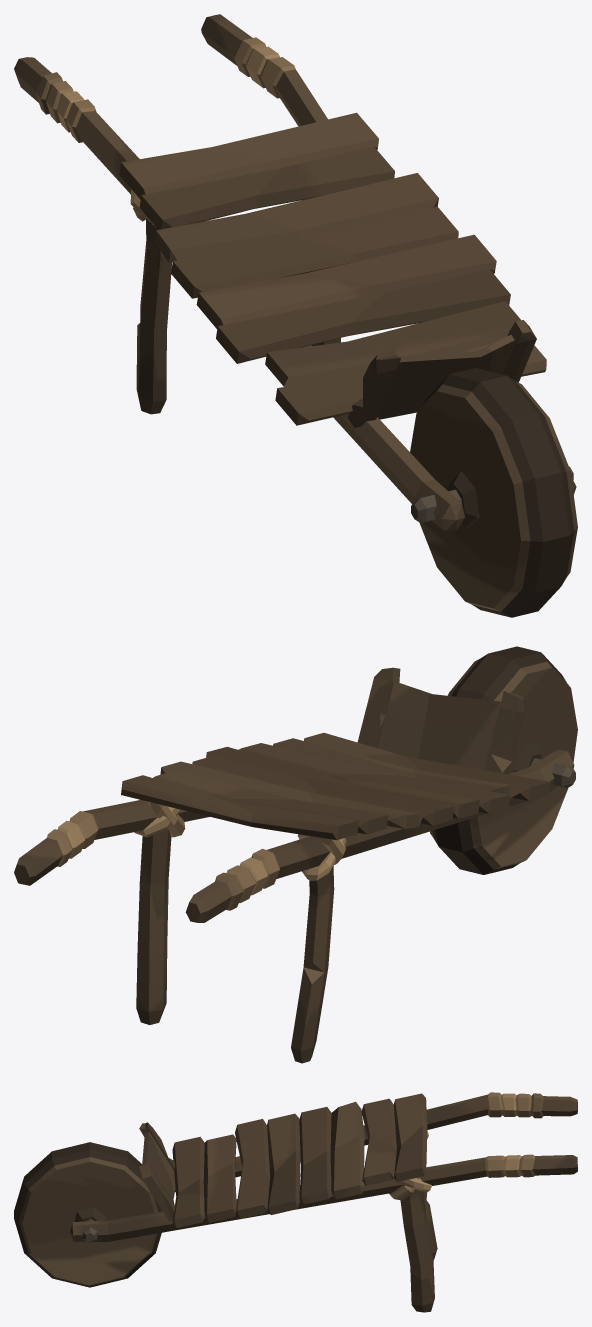
The model's file is SM_Prop_Wheel_Barrow_01.fbx.
3 renders of one model, top to bottom at view 1: azimuth 30°, elevation 25°; view 2: azimuth 150°, elevation 25°; view 3: azimuth 270°, elevation 25°, orthographic. The views are drawn at different scales.
Visible parts, largest first — view 1: SM_Prop_Wheel_Barrow_01; view 2: SM_Prop_Wheel_Barrow_01; view 3: SM_Prop_Wheel_Barrow_01.
Boxes of the visible parts, box(x1,y1,x2,y2) form: SM_Prop_Wheel_Barrow_01: box(14, 14, 577, 617); SM_Prop_Wheel_Barrow_01: box(14, 646, 577, 1063); SM_Prop_Wheel_Barrow_01: box(14, 1092, 577, 1312).
Bounding box in the file's own units: 78.38 × 73.07 × 223.
